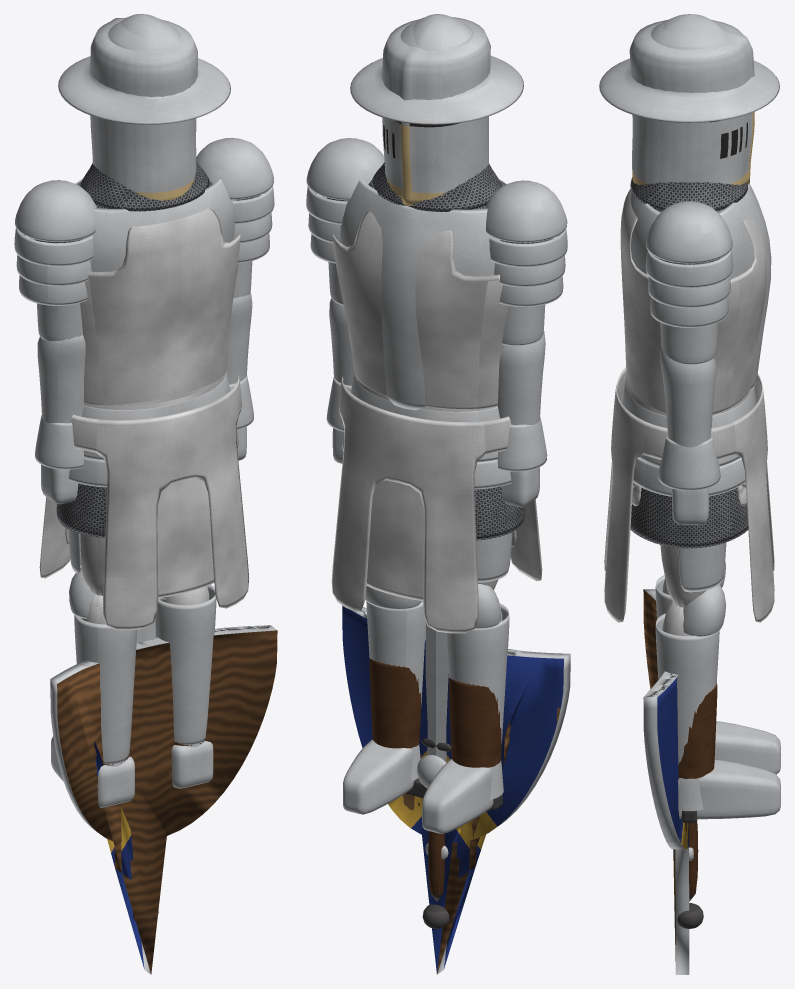
Rendered from characters.glb.
3 views of the same model, side by side, from view 1: azimuth 30°, elevation 25°; view 2: azimuth 150°, elevation 25°; view 3: azimuth 270°, elevation 25° (orthographic).
Visible parts, largest first — view 1: shield.body, pelvis.surcoat, torso.surcoat, head.great_helm, upper_arm_l.pauldron, head.kettle_hat, pelvis.tabard, shin_l.greave, shin_r.greave, upper_arm_r.pauldron, torso.cuirass, forearm_l.vambrace (+12 smaller); view 2: pelvis.surcoat, torso.surcoat, shield.body, head.great_helm, torso.cuirass, upper_arm_l.pauldron, head.kettle_hat, pelvis.tabard, upper_arm_r.pauldron, shin_l.greave, foot_l.sabaton, shin_r.greave (+17 smaller); view 3: head.great_helm, pelvis.surcoat, torso.surcoat, upper_arm_r.pauldron, shield.body, head.kettle_hat, shin_r.greave, foot_r.sabaton, pelvis.mail, forearm_r.vambrace, torso.cuirass, pelvis.faulds (+12 smaller).
Boxes of the visible parts, <box> form: shield.body: <box>50,625,277,974</box>; pelvis.surcoat: <box>39,375,249,630</box>; torso.surcoat: <box>80,208,240,405</box>; head.great_helm: <box>90,17,197,200</box>; upper_arm_l.pauldron: <box>14,180,96,305</box>; head.kettle_hat: <box>58,18,230,124</box>; pelvis.tabard: <box>65,370,226,598</box>; shin_l.greave: <box>69,568,137,764</box>; shin_r.greave: <box>155,584,216,745</box>; upper_arm_r.pauldron: <box>196,137,274,263</box>; torso.cuirass: <box>75,177,236,271</box>; forearm_l.vambrace: <box>37,335,85,423</box>; pelvis.surcoat: <box>331,376,542,633</box>; torso.surcoat: <box>333,211,508,408</box>; shield.body: <box>342,605,570,974</box>; head.great_helm: <box>382,17,490,205</box>; torso.cuirass: <box>340,178,506,410</box>; upper_arm_l.pauldron: <box>485,180,567,306</box>; head.kettle_hat: <box>350,17,523,124</box>; pelvis.tabard: <box>354,373,516,600</box>; upper_arm_r.pauldron: <box>306,138,384,263</box>; shin_l.greave: <box>446,584,509,743</box>; foot_l.sabaton: <box>422,759,503,833</box>; shin_r.greave: <box>365,586,425,707</box>; head.great_helm: <box>629,20,754,184</box>; pelvis.surcoat: <box>604,367,774,622</box>; torso.surcoat: <box>620,188,766,414</box>; upper_arm_r.pauldron: <box>645,201,733,327</box>; shield.body: <box>643,589,689,974</box>; head.kettle_hat: <box>599,21,779,122</box>; shin_r.greave: <box>655,584,725,764</box>; foot_r.sabaton: <box>678,759,780,819</box>; pelvis.mail: <box>630,487,748,548</box>; forearm_r.vambrace: <box>660,346,716,447</box>; torso.cuirass: <box>630,184,771,389</box>; pelvis.faulds: <box>622,374,756,496</box>.
Size of the model in its own units: 0.6316 by 2.32 by 0.3977.
Materials: 14 (11 with a texture image).
